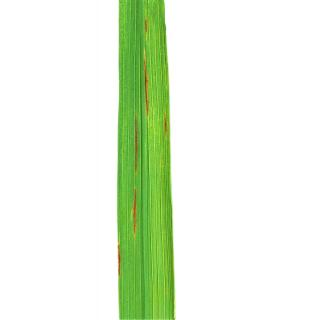Bercak-Cokelat-Sempit: (139, 47, 155, 119), (130, 112, 141, 176), (130, 186, 142, 238), (114, 240, 126, 282), (142, 13, 152, 42), (161, 113, 169, 141)
